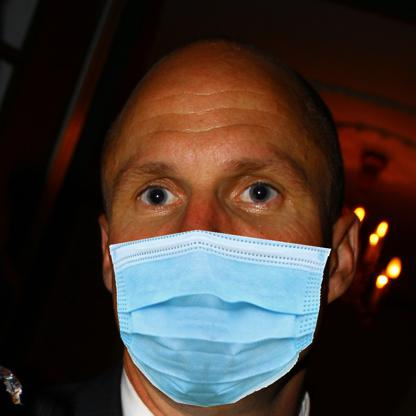mask: (106, 229, 327, 408)
